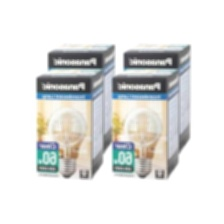carton: (33, 64, 108, 184), (121, 40, 195, 161), (43, 44, 117, 161), (110, 65, 183, 181)
